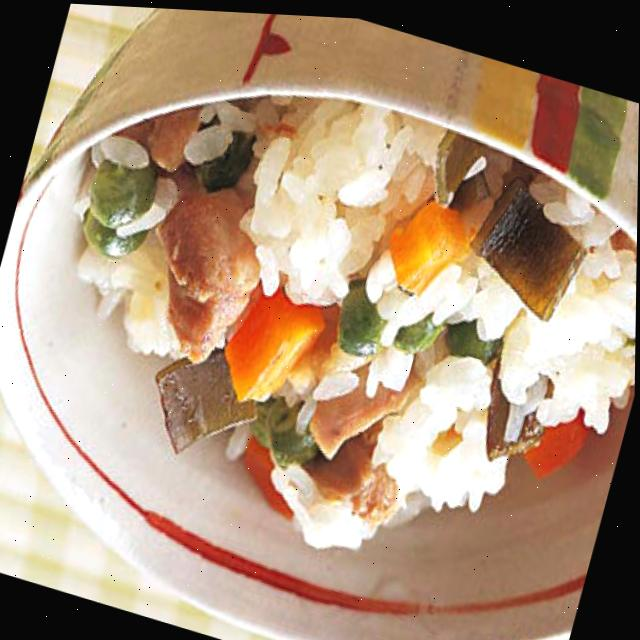米饭主食: (0, 23, 640, 620)
